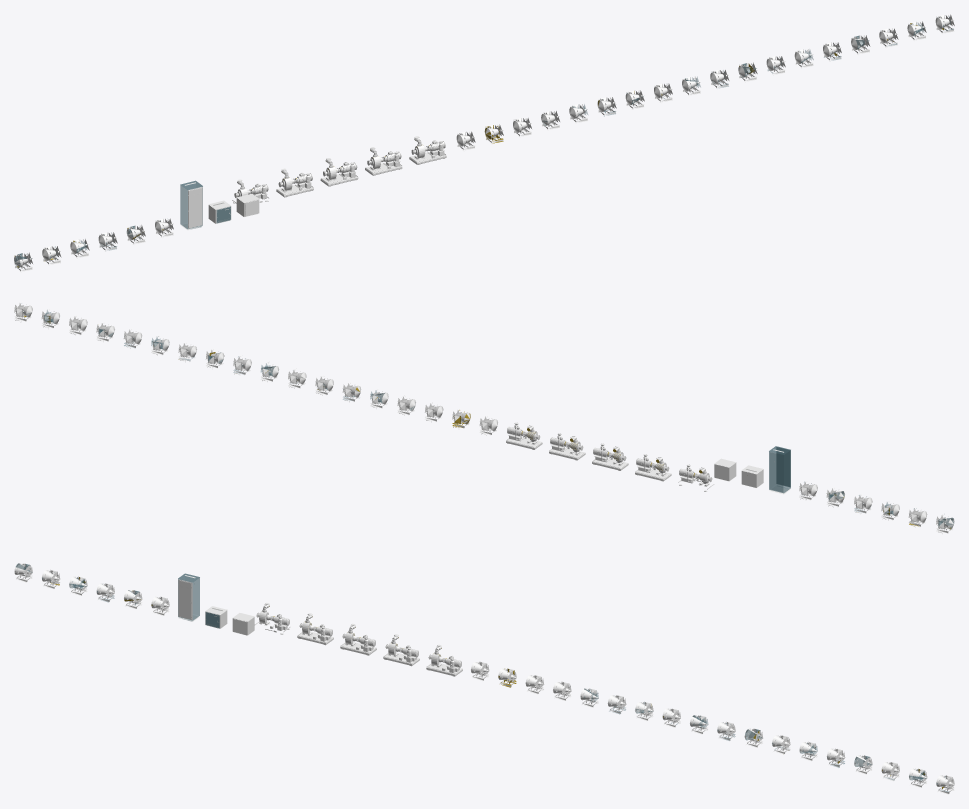
File: xuanshu_interior_C63.glb
3 renders of one model, top to bottom at view 1: azimuth 30°, elevation 25°; view 2: azimuth 150°, elevation 25°; view 3: azimuth 330°, elevation 25°, orthographic. The views are drawn at different scales.
Parts seen in each view (by area): view 1: UNIT-HIB-001_S25797; view 2: UNIT-HIB-001_S25797; view 3: UNIT-HIB-001_S25797.
Part boxes in pixels (bbox=[...]): UNIT-HIB-001_S25797: bbox=[14, 14, 954, 272]; UNIT-HIB-001_S25797: bbox=[14, 301, 954, 533]; UNIT-HIB-001_S25797: bbox=[14, 563, 954, 794].
Bounding box in the file's own units: 35.54 × 1.6 × 1.53.
